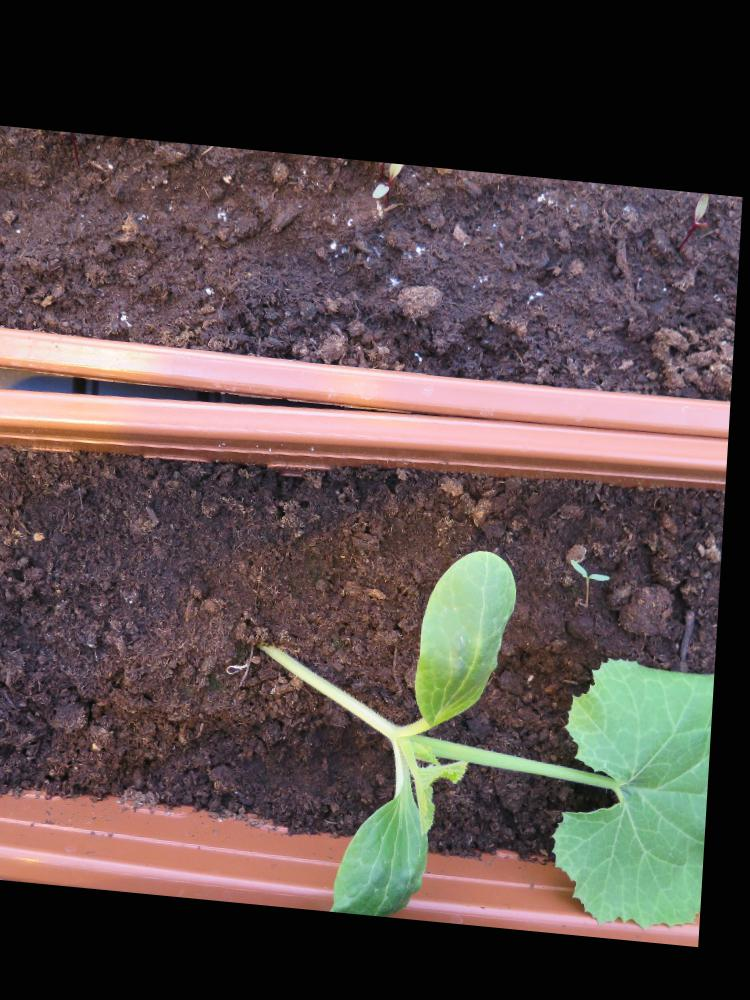weed: (575, 545, 621, 568)
